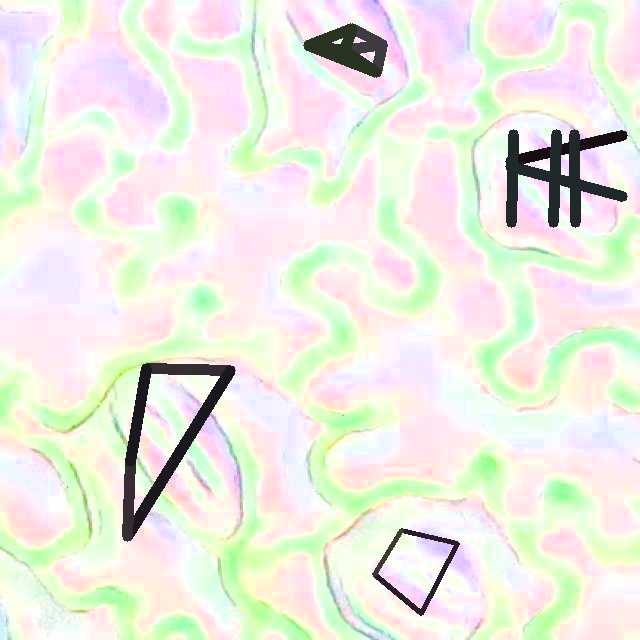close: (372, 528, 459, 615)
open: (126, 364, 234, 540), (506, 130, 627, 226), (303, 24, 386, 76)
